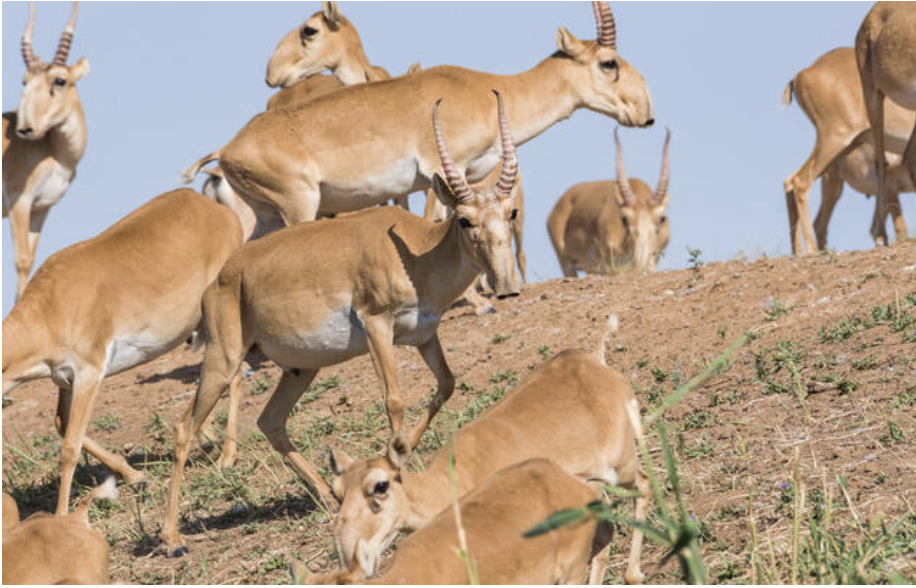saiga: (171, 81, 528, 462)
